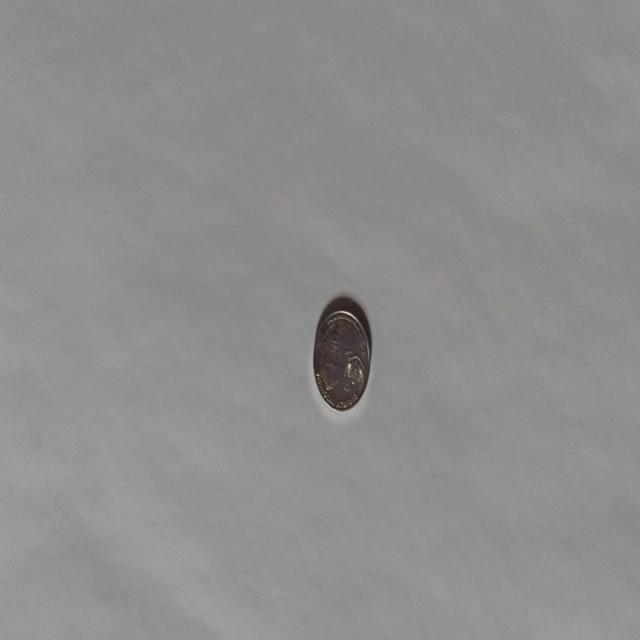dua ratus rupiah: (312, 304, 371, 412)
